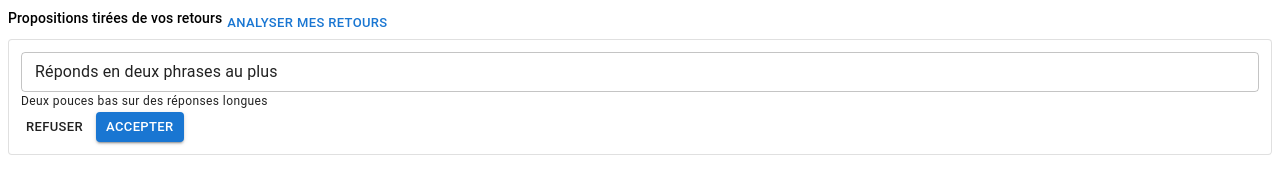
StyleProposals › accepting hands the new directive over and removes the proposal
This screenshot has width=1280, height=172.
Click the button "Accepter" at point(140, 127), box [96,112,184,142]
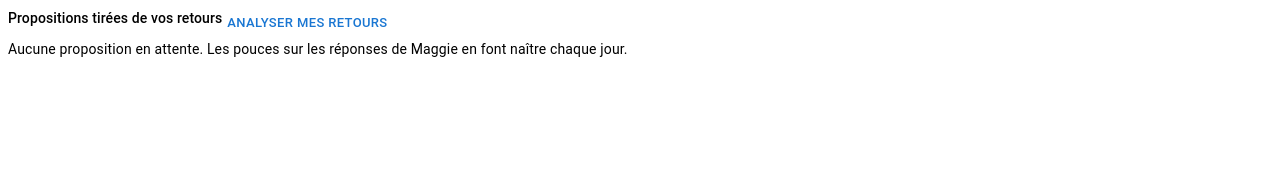
Check: the element with test id "style-proposal" is gone
